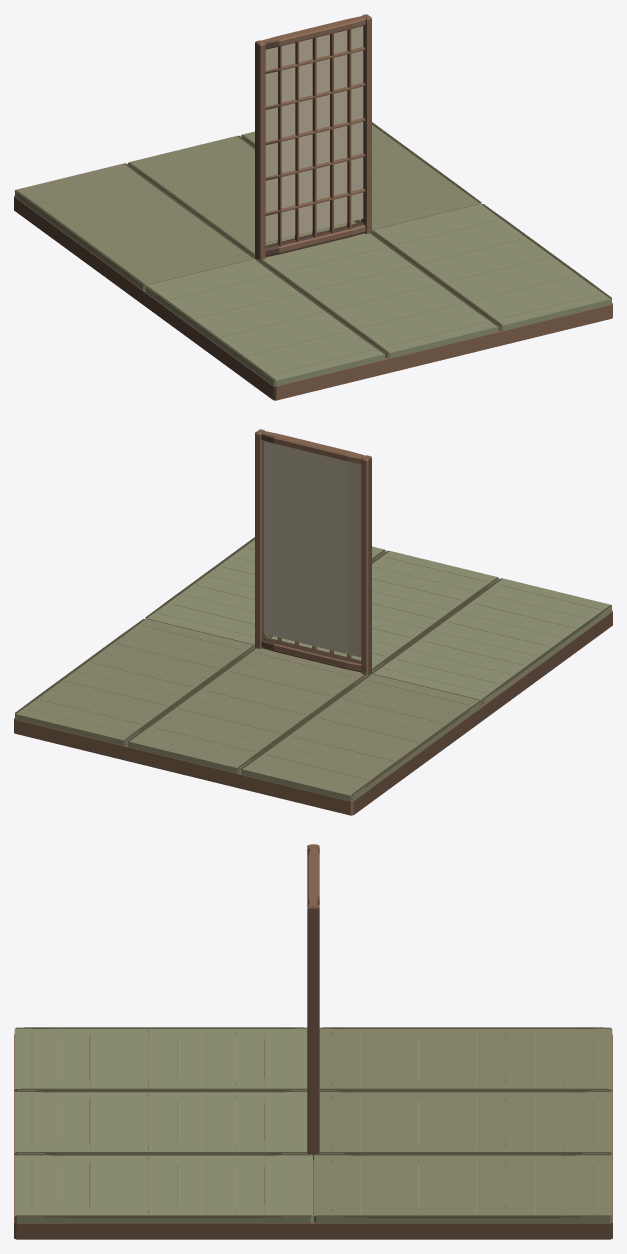
File: chashitsu-v2.glb
3 renders of one model, top to bottom at view 1: azimuth 30°, elevation 25°; view 2: azimuth 150°, elevation 25°; view 3: azimuth 270°, elevation 25°, orthographic. The views are drawn at different scales.
Parts seen in each view (by area): view 1: Tatami, ShojiBois; view 2: Tatami, ShojiBois; view 3: Tatami, ShojiBois.
Part boxes in pixels (x1,y1,x2,y2): Tatami: (14, 122, 612, 400); ShojiBois: (255, 14, 371, 260); Tatami: (14, 537, 612, 815); ShojiBois: (255, 429, 371, 675); Tatami: (14, 1027, 612, 1239); ShojiBois: (307, 844, 319, 1160).
Size of the model in its own units: 2.7 by 1.78 by 3.6.
